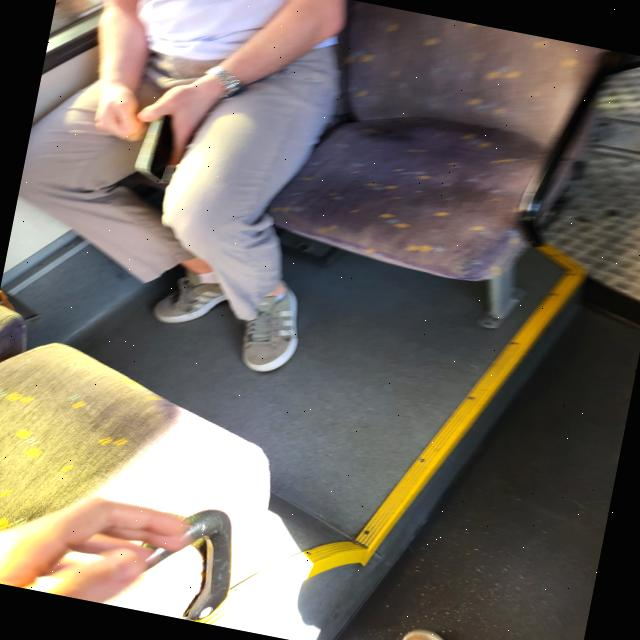empty-seat-frontal: (259, 0, 586, 309)
